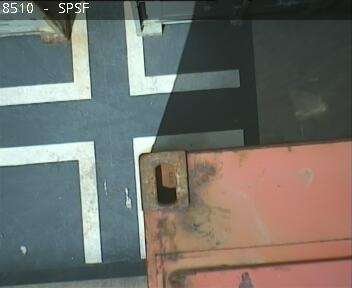groundmarker_1: (1, 130, 241, 264), (1, 1, 238, 105)
